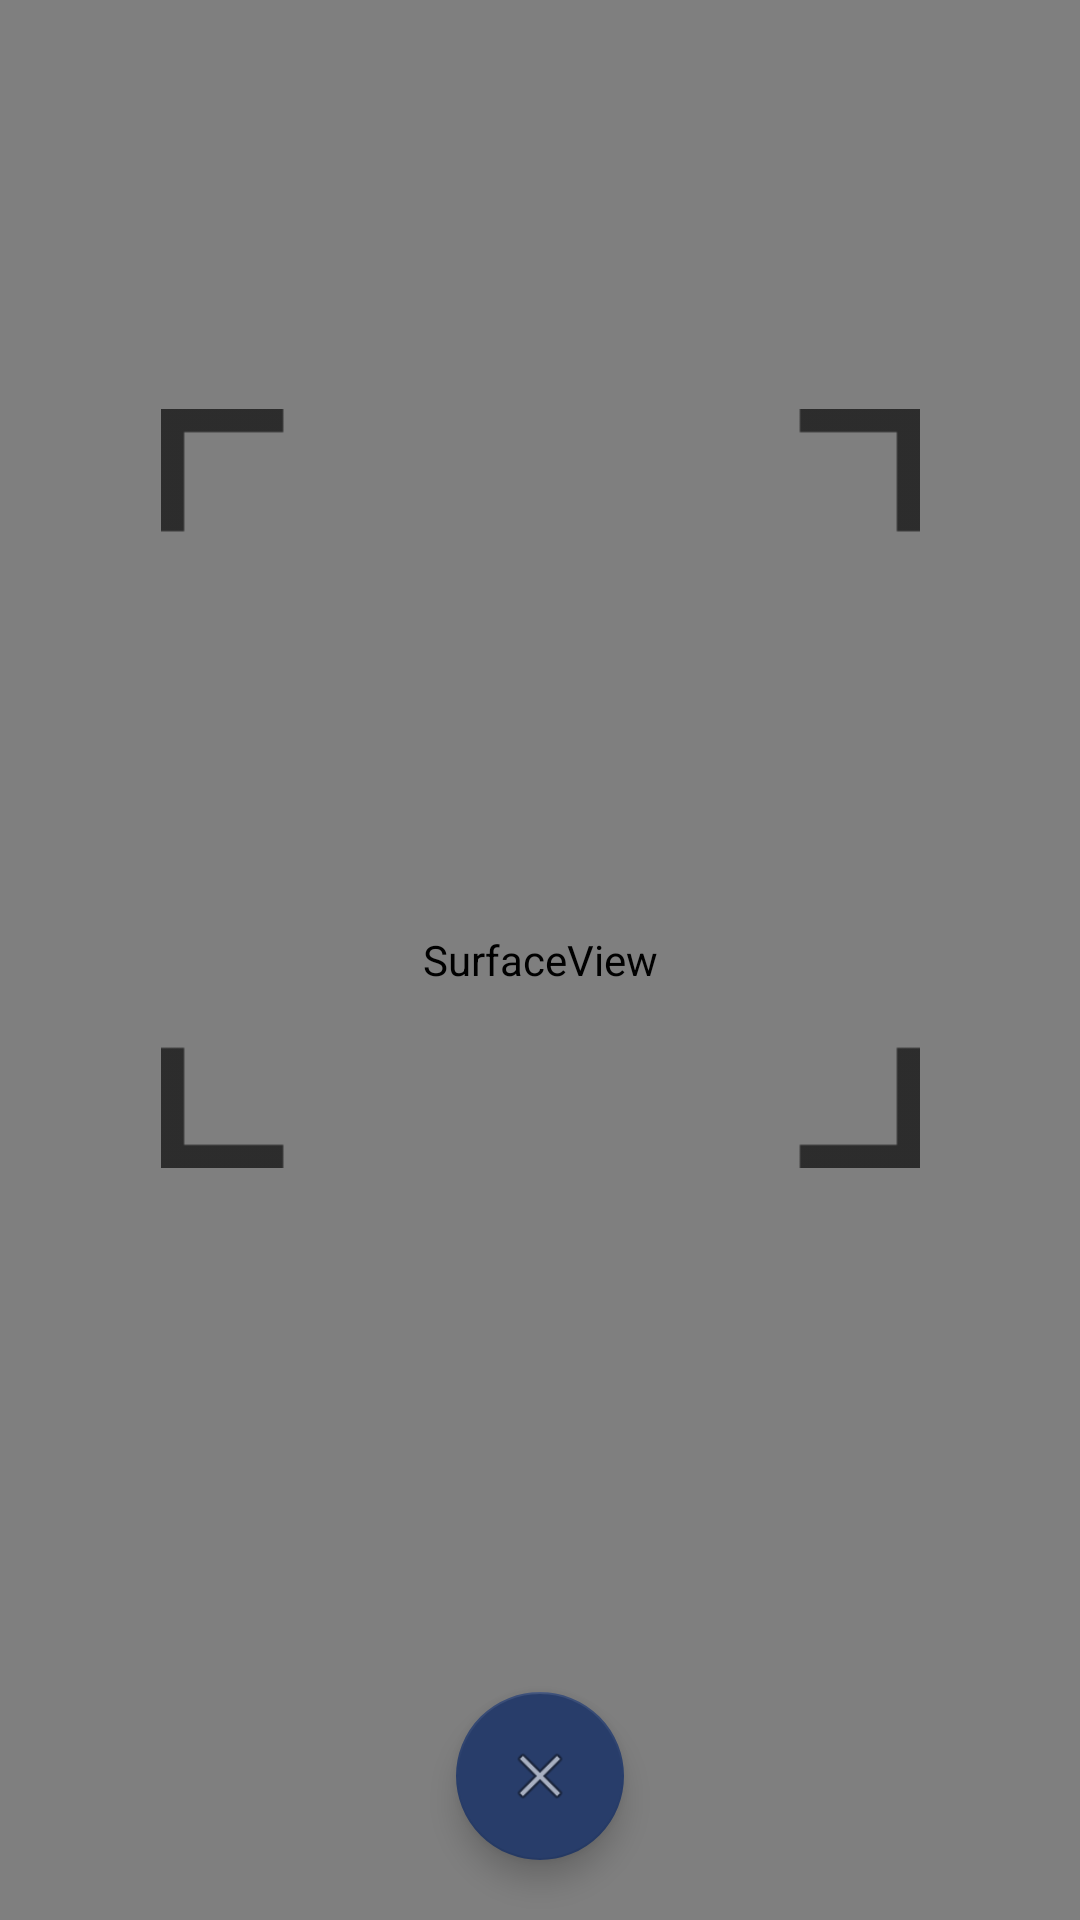

Locate icon controls on the screen. Image size 1080px x 1920px, boxes as (x1, y1, x2, y2).
close clear cancel: (456, 1692, 624, 1860)
